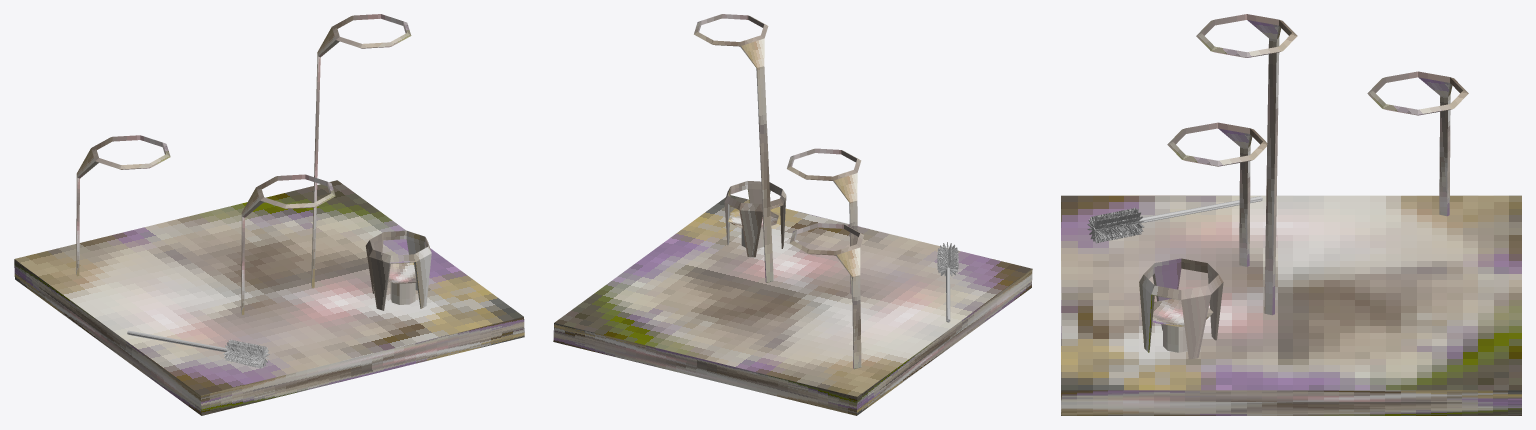
The model's file is chemical_lab_installation.obj.
The picture shows the model from 3 angles, left to right: view 1: azimuth 30°, elevation 25°; view 2: azimuth 150°, elevation 25°; view 3: azimuth 270°, elevation 25°; orthographic projection. The views are drawn at different scales.
Parts seen in each view (by area): view 1: Cube_Cube.002, Cylinder; view 2: Cube_Cube.002, Cylinder; view 3: Cube_Cube.002, Cylinder.
Part boxes in pixels (x1,y1,x2,y2): Cube_Cube.002: (14,14,524,415); Cylinder: (127,330,269,368); Cube_Cube.002: (553,14,1032,415); Cylinder: (937,242,958,322); Cube_Cube.002: (1061,14,1521,415); Cylinder: (1087,196,1262,243).
Bounding box in the file's own units: 1 × 0.8043 × 1.
